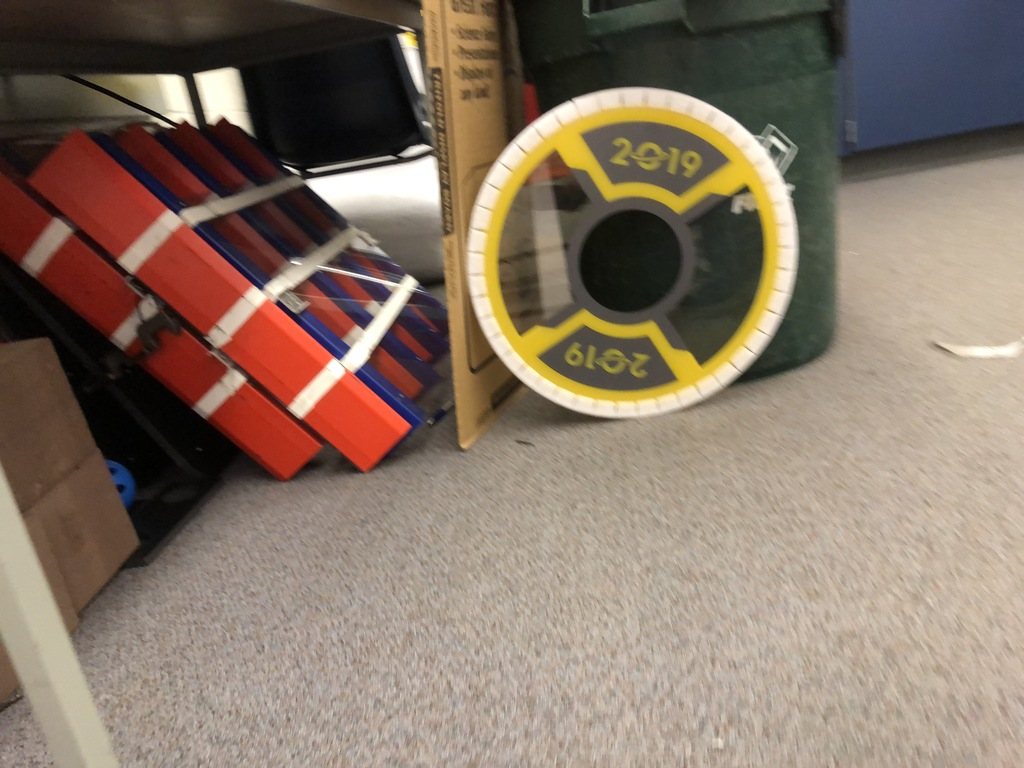hatch_panel: (466, 79, 809, 436)
